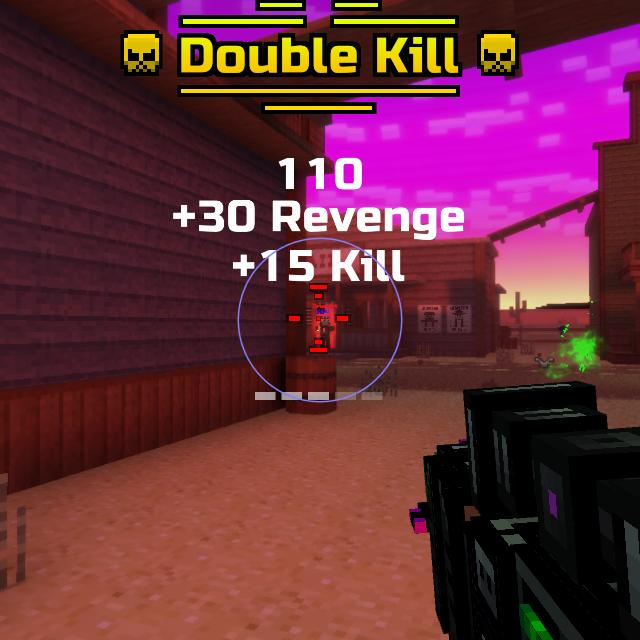Enemy: (315, 316, 335, 348)
